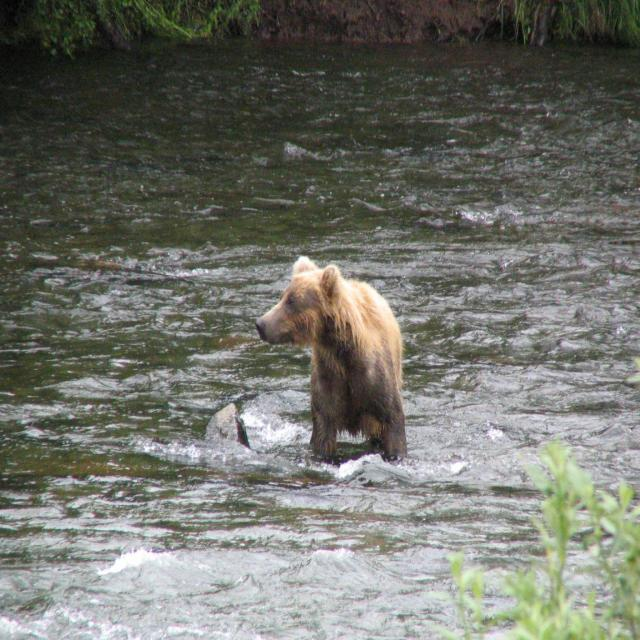bear face: (255, 255, 406, 465)
